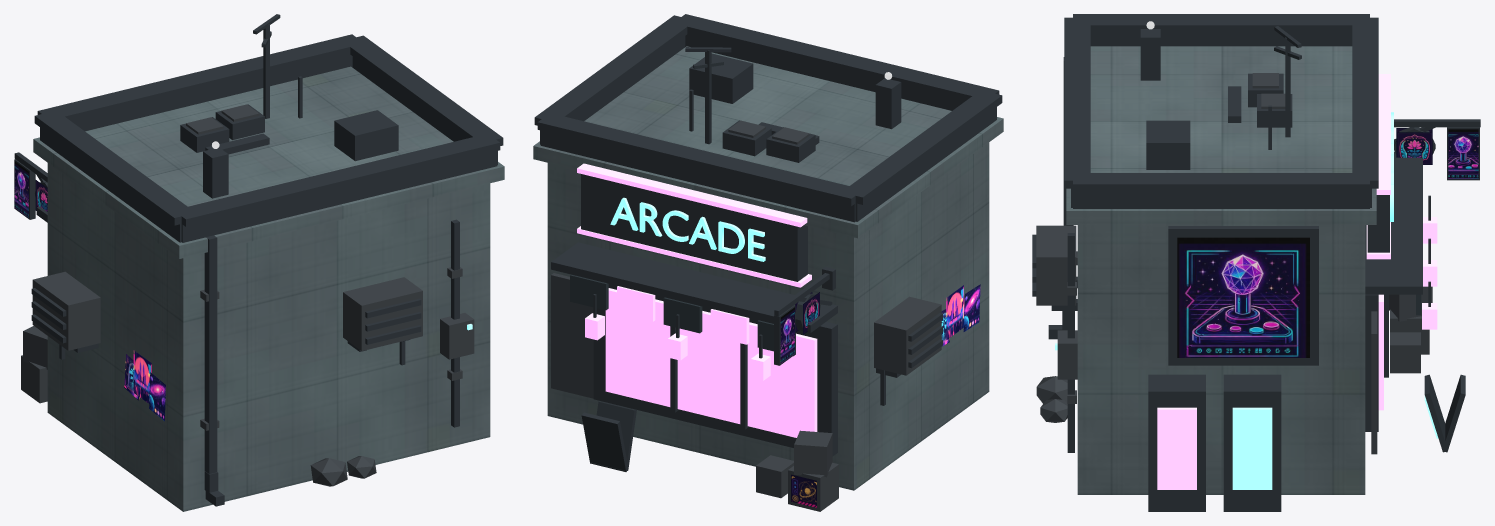
Rendered from synthwave-shop-e.glb.
3 renders of one model, left to right at view 1: azimuth 30°, elevation 25°; view 2: azimuth 150°, elevation 25°; view 3: azimuth 270°, elevation 25°, orthographic. The views are drawn at different scales.
Visible parts, largest first — view 1: Shop_Body2, Shop_Frame, Shop_Door, RK_Duct, Shop_ShopPosters, RK_Vent, RK_AcBox0-12_10, RK_AcBox1-12_10, Shop_BrkBrandARCADE, RK_AcDuct-12_10, RK_AntMast8_15; view 2: Shop_Body2, Shop_Frame, ShopPane, Shop_Door, Shop_NeonA, Shop_PaneOff, ShopSignText, Shop_PaneADim, RK_Duct, Shop_ShopPosters, Shop_DimA, RK_Vent (+5 smaller); view 3: Shop_Body2, Shop_Frame, Sign_ShopBr, Shop_Door, VendGlow1, VendGlow0, RK_Duct, Shop_NeonA, Shop_BrkBrandARCADE, Shop_DimA, RK_Vent, Shop_BrkEmbARCADE (+4 smaller).
Boxes of the visible parts, <box> form: Shop_Body2: <box>33,66,504,511</box>; Shop_Frame: <box>14,34,503,506</box>; Shop_Door: <box>21,267,474,486</box>; RK_Duct: <box>334,110,398,161</box>; Shop_ShopPosters: <box>124,350,165,421</box>; RK_Vent: <box>203,147,228,198</box>; RK_AcBox0-12_10: <box>180,117,229,152</box>; RK_AcBox1-12_10: <box>215,104,264,140</box>; Shop_BrkBrandARCADE: <box>14,161,28,218</box>; RK_AcDuct-12_10: <box>205,133,269,154</box>; RK_AntMast8_15: <box>263,24,269,118</box>; Shop_Body2: <box>533,46,1003,490</box>; Shop_Frame: <box>534,14,1002,471</box>; ShopPane: <box>605,288,817,437</box>; Shop_Door: <box>551,273,941,511</box>; Shop_NeonA: <box>577,163,811,287</box>; Shop_PaneOff: <box>570,274,795,356</box>; ShopSignText: <box>610,197,765,261</box>; Shop_PaneADim: <box>617,286,749,344</box>; RK_Duct: <box>689,53,753,103</box>; Shop_ShopPosters: <box>941,284,980,346</box>; Shop_DimA: <box>585,313,770,380</box>; RK_Vent: <box>875,78,901,129</box>; Shop_Body2: <box>1066,46,1376,494</box>; Shop_Frame: <box>1032,14,1480,511</box>; Sign_ShopBr: <box>1177,237,1309,357</box>; Shop_Door: <box>1036,225,1432,454</box>; VendGlow1: <box>1232,407,1272,489</box>; VendGlow0: <box>1157,407,1196,489</box>; RK_Duct: <box>1146,120,1190,169</box>; Shop_NeonA: <box>1366,74,1390,259</box>; Shop_BrkBrandARCADE: <box>1448,129,1478,179</box>; Shop_DimA: <box>1422,217,1437,329</box>; RK_Vent: <box>1140,29,1160,80</box>; Shop_BrkEmbARCADE: <box>1396,128,1432,164</box>.
Size of the model in its own units: 1.05 by 0.984 by 1.01.
18 materials, 6 textured.
